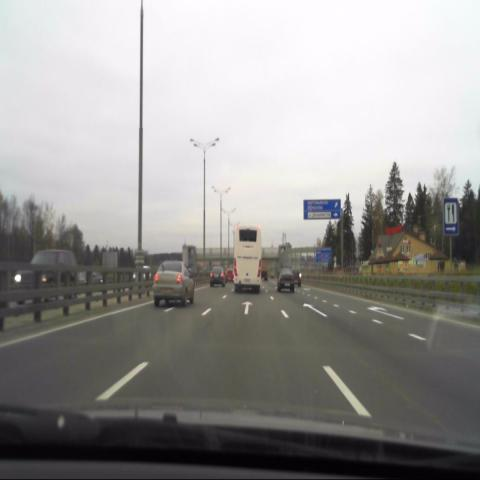7_7: (444, 199, 459, 234)
